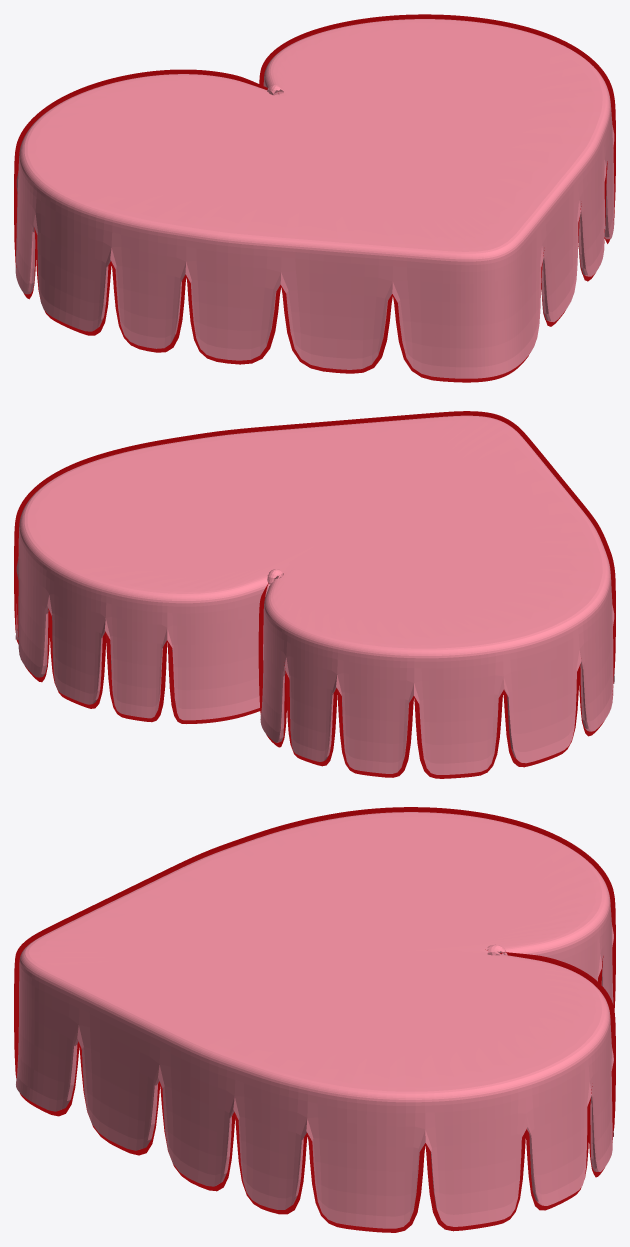
The model's file is coracao rosa.glb.
3 renders of one model, top to bottom at view 1: azimuth 30°, elevation 25°; view 2: azimuth 150°, elevation 25°; view 3: azimuth 270°, elevation 25°, orthographic. The views are drawn at different scales.
Parts seen in each view (by area): view 1: Circle.010; view 2: Circle.010; view 3: Circle.010.
Boxes of the visible parts, x1,y1,x2,y2 form: Circle.010: (14,14,615,382); Circle.010: (14,411,615,778); Circle.010: (14,807,615,1232).
Bounding box in the file's own units: 25.3 × 6.05 × 22.1.
